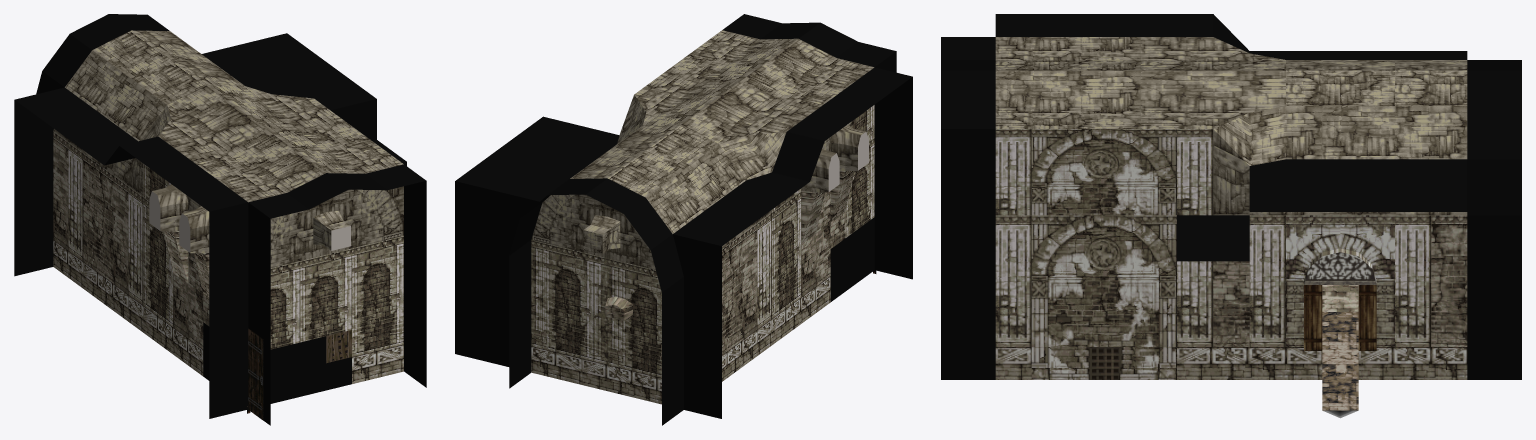
The model's file is MAP051.obj.
The picture shows the model from 3 angles, left to right: view 1: azimuth 30°, elevation 25°; view 2: azimuth 150°, elevation 25°; view 3: azimuth 270°, elevation 25°; orthographic projection. The views are drawn at different scales.
Parts seen in each view (by area): view 1: mesh_35, mesh_55, mesh_54, mesh_53, mesh_72, mesh_30, mesh_50, mesh_78, mesh_52, mesh_73, mesh_25, mesh_76 (+14 smaller); view 2: mesh_35, mesh_55, mesh_53, mesh_52, mesh_13, mesh_59, mesh_30, mesh_76, mesh_54, mesh_12, mesh_73, mesh_50 (+11 smaller); view 3: mesh_35, mesh_54, mesh_52, mesh_66, mesh_53, mesh_20, mesh_21, mesh_67, mesh_19, mesh_55, mesh_61, mesh_64 (+11 smaller).
Part boxes in pixels (x1,y1,x2,y2): mesh_35: (65, 30, 403, 202); mesh_55: (14, 87, 248, 418); mesh_54: (248, 164, 426, 425); mesh_53: (202, 33, 406, 165); mesh_72: (270, 235, 403, 322); mesh_30: (53, 185, 209, 348); mesh_50: (203, 322, 351, 403); mesh_78: (53, 131, 203, 294); mesh_52: (36, 14, 169, 94); mesh_73: (68, 251, 188, 365); mesh_25: (270, 186, 403, 267); mesh_76: (68, 142, 173, 272); mesh_35: (570, 30, 874, 233); mesh_55: (673, 67, 912, 418); mesh_53: (455, 116, 619, 366); mesh_52: (509, 178, 683, 425); mesh_13: (531, 258, 661, 377); mesh_59: (531, 239, 661, 324); mesh_30: (722, 170, 854, 339); mesh_76: (757, 105, 874, 275); mesh_54: (722, 14, 896, 72); mesh_12: (542, 194, 655, 269); mesh_73: (722, 287, 815, 381); mesh_50: (830, 217, 874, 301); mesh_35: (995, 37, 1467, 165); mesh_54: (941, 37, 995, 379); mesh_52: (1467, 60, 1521, 379); mesh_66: (1031, 166, 1176, 281); mesh_53: (1177, 159, 1467, 261); mesh_20: (995, 129, 1431, 346); mesh_21: (1031, 129, 1176, 346); mesh_67: (995, 215, 1431, 281); mesh_19: (1286, 215, 1394, 346); mesh_55: (995, 14, 1467, 59); mesh_61: (995, 347, 1467, 379); mesh_64: (1031, 281, 1140, 346).
Size of the model in its own units: 134 by 104 by 205.
Materials: 20 (20 with a texture image).
